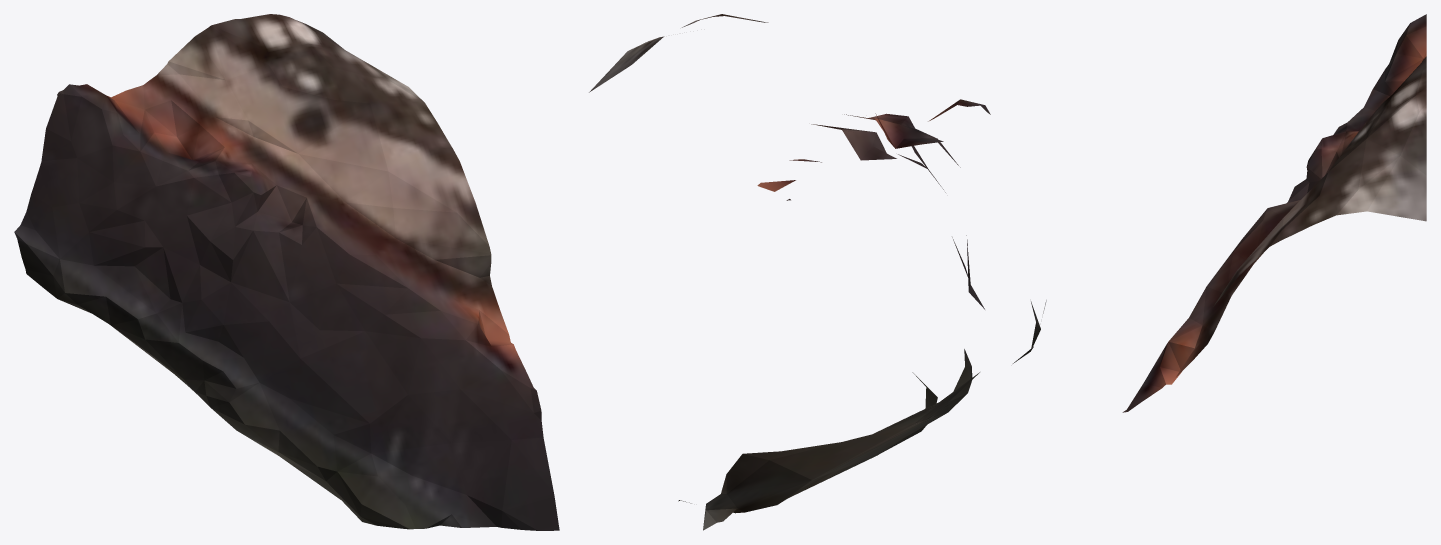
3 renders of one model, left to right at view 1: azimuth 30°, elevation 25°; view 2: azimuth 150°, elevation 25°; view 3: azimuth 270°, elevation 25°, orthographic. The views are drawn at different scales.
Size of the model in its own units: 0.3432 by 0.3729 by 0.2971.
Materials: 1 (1 with a texture image).
